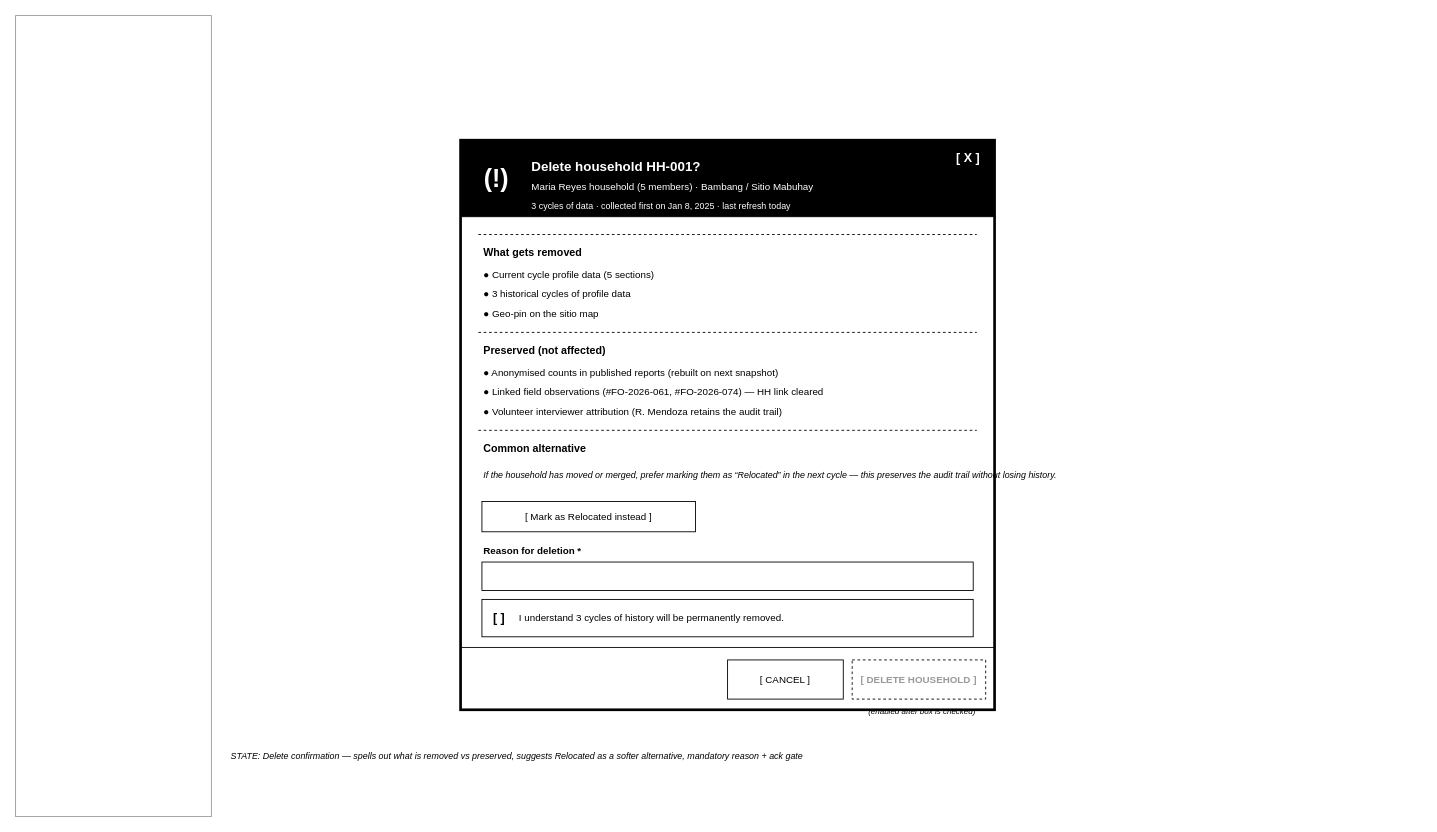
The diagram is 1437 pixels wide and 832 high, and some of its shapes have lost their labels. The centre of each missing label's shape, as x and y in pixels:
"[ Pick reason ▾ ]" belongs at point 727,576.
"AGAPE" belongs at point 113,416.
